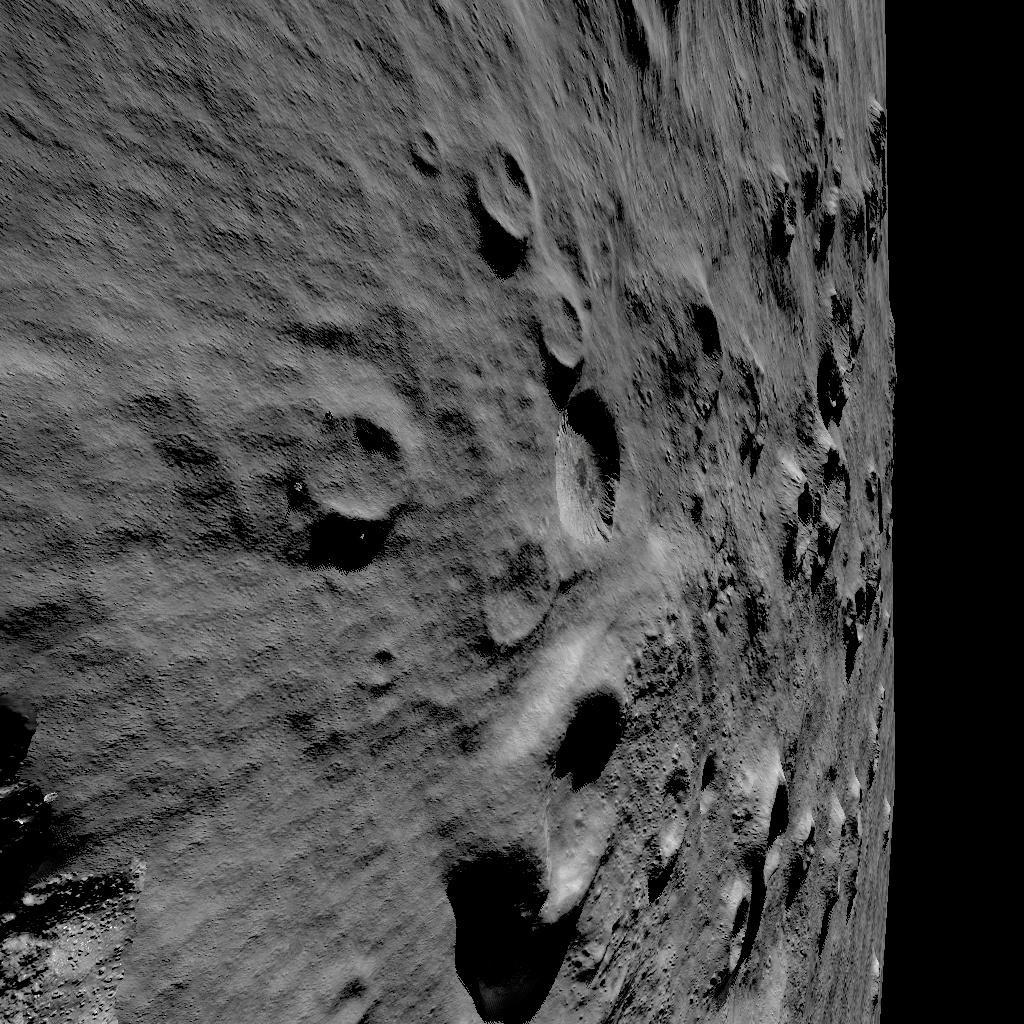Crater: (436, 628, 630, 988), (474, 140, 630, 545), (641, 720, 858, 979), (784, 308, 878, 648), (526, 0, 828, 100), (656, 295, 750, 490), (288, 410, 410, 535), (774, 125, 886, 255)
Plan surface: (0, 0, 386, 395), (54, 565, 370, 1024), (0, 422, 198, 542)
